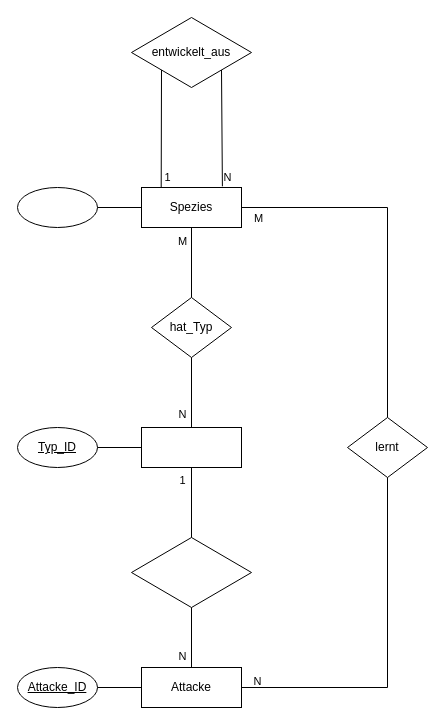
Some shapes in this 445 by 725 pixel diagram are drawn without their labels. The centre of each missing label's shape, as x and y in pixels:
"ist_vom_Typ" goes at pixel 191 572.
"Pokedex_Nr" goes at pixel 57 207.
"Typ" goes at pixel 191 447.
